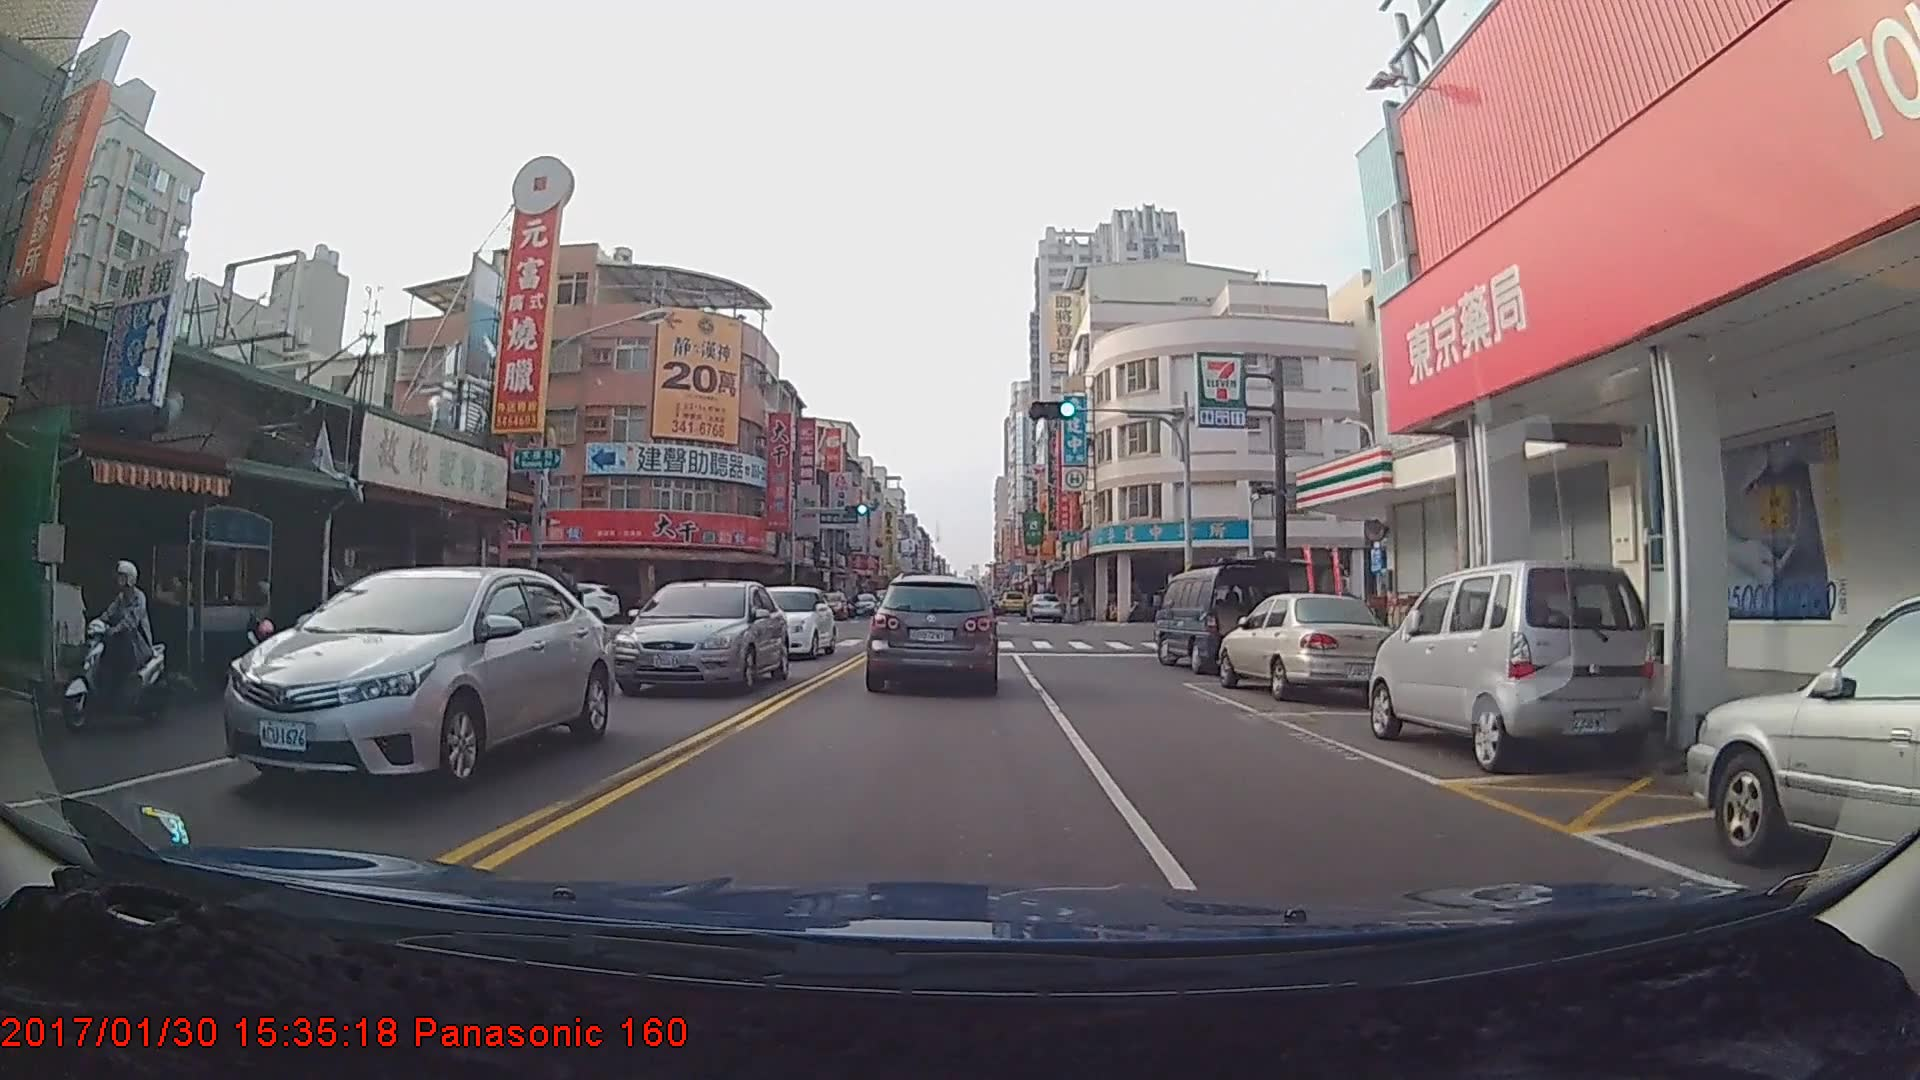rider: (55, 559, 177, 733)
vehicle: (219, 563, 620, 803), (1686, 590, 1920, 907), (1372, 557, 1650, 771), (614, 578, 789, 696), (1219, 592, 1392, 701), (1152, 565, 1293, 675), (868, 572, 997, 692), (744, 584, 836, 658), (811, 588, 846, 620), (1025, 591, 1063, 620), (846, 593, 878, 616), (999, 590, 1028, 612)
